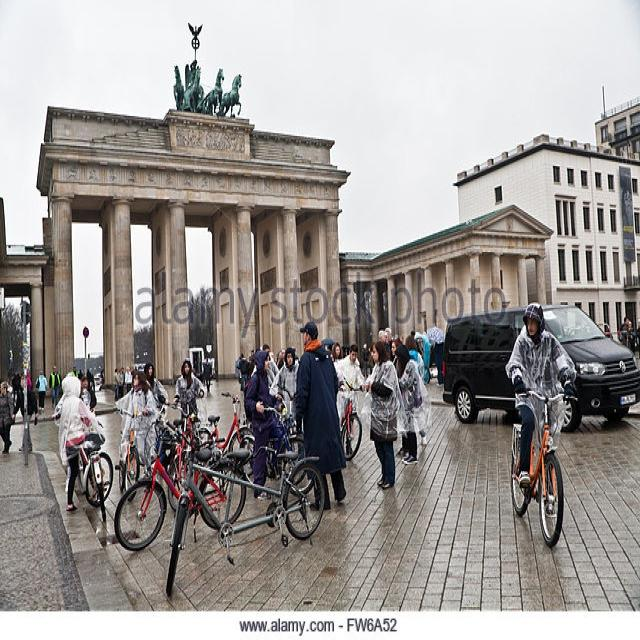body: (502, 298, 578, 520), (290, 318, 348, 511), (243, 350, 285, 502), (57, 374, 102, 515), (361, 338, 401, 491), (112, 368, 162, 487), (355, 325, 448, 384), (392, 342, 424, 470), (332, 342, 368, 447), (171, 356, 206, 431), (9, 372, 39, 454), (72, 364, 138, 401), (268, 345, 301, 418), (233, 342, 289, 380), (250, 342, 281, 390), (142, 361, 170, 408), (0, 380, 16, 456), (404, 334, 426, 385), (1, 368, 34, 399), (617, 315, 640, 358), (78, 374, 97, 411), (47, 364, 62, 409), (34, 370, 48, 412), (235, 351, 249, 391), (202, 355, 213, 397), (390, 336, 405, 366), (193, 352, 204, 390), (330, 340, 343, 362), (326, 342, 334, 358)
